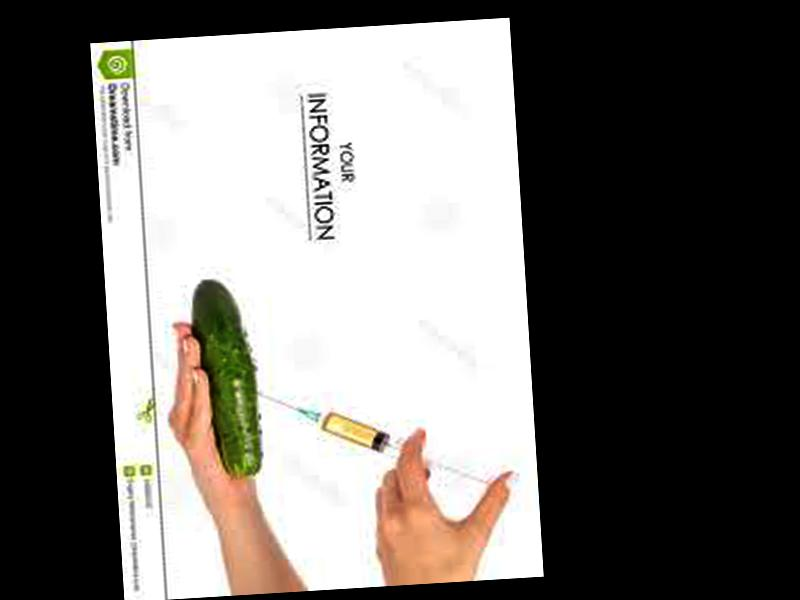Cucumber: (190, 277, 262, 480)
